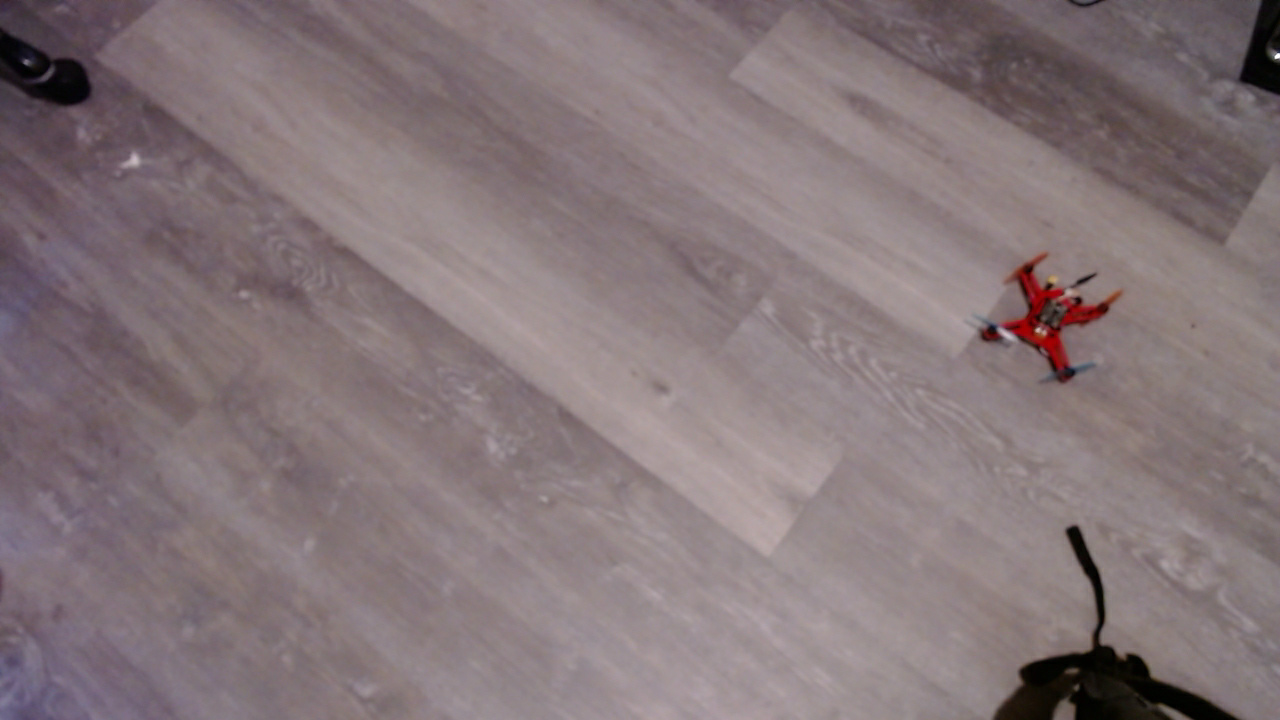crazyflie: (970, 254, 1139, 398)
